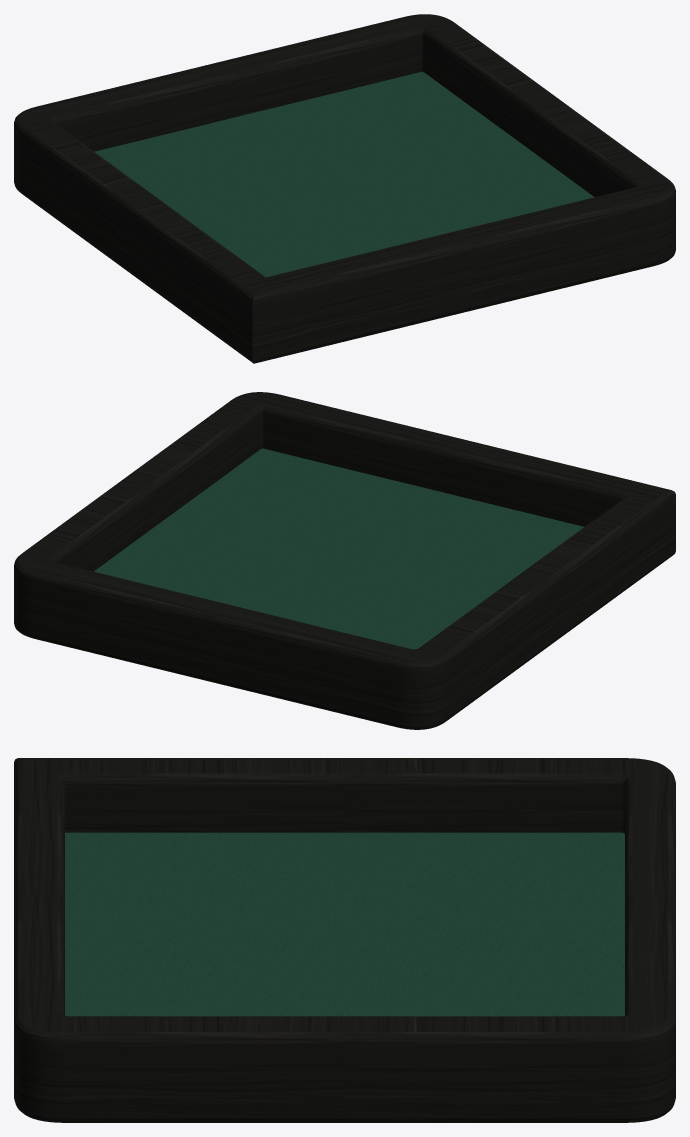
File: dice_tray.glb
The picture shows the model from 3 angles, top to bottom: view 1: azimuth 30°, elevation 25°; view 2: azimuth 150°, elevation 25°; view 3: azimuth 270°, elevation 25°; orthographic projection. The views are drawn at different scales.
Parts seen in each view (by area): view 1: frame, felt_pad; view 2: frame, felt_pad; view 3: frame, felt_pad.
Part boxes in pixels (x1,y1,x2,y2): frame: (14,14,675,363); felt_pad: (94,72,594,277); frame: (14,392,675,729); felt_pad: (94,448,583,649); frame: (14,758,675,1122); felt_pad: (65,832,624,1016).
Size of the model in its own units: 1.02 by 0.154 by 1.02.
2 materials, 2 textured.
